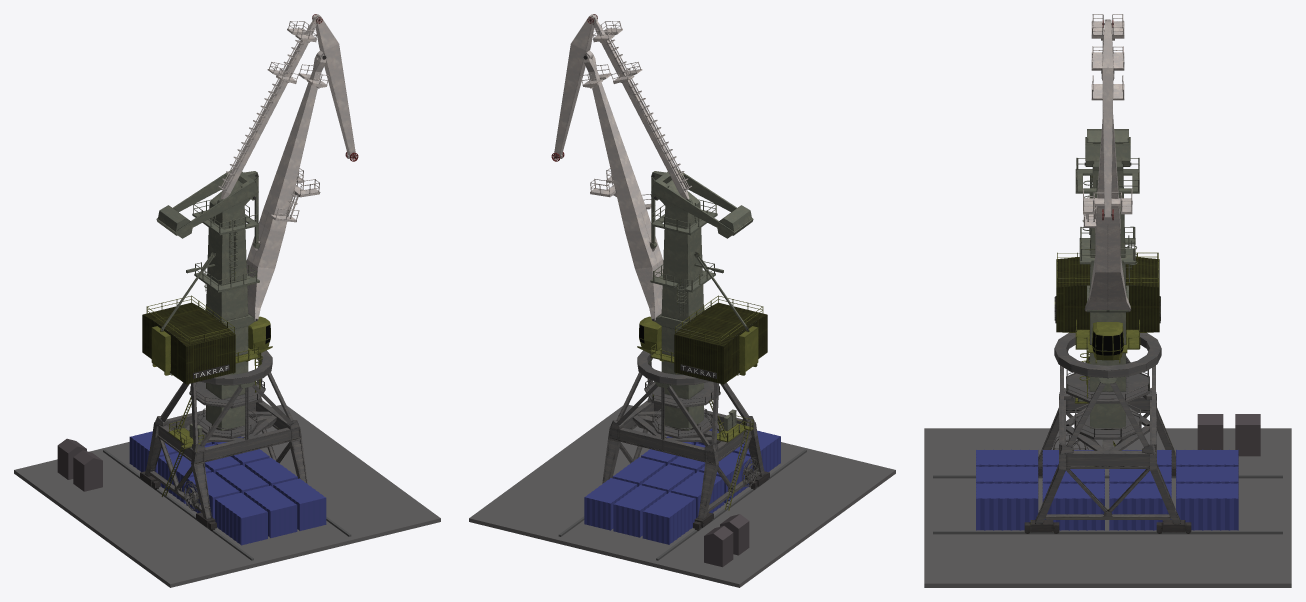
File: alb.glb
3 renders of one model, left to right at view 1: azimuth 30°, elevation 25°; view 2: azimuth 150°, elevation 25°; view 3: azimuth 270°, elevation 25°, orthographic. The views are drawn at different scales.
Visible parts, largest first — view 1: Cube.031, Cube.007, Cylinder.002, Cube.009, Cube.006, Cube.002, Cube.001, Cube; view 2: Cube.031, Cube.007, Cylinder.002, Cube.009, Cube.006, Cube.001, Cube.002, Cube; view 3: Cube.031, Cube.006, Cylinder.002, Cube.007, Cube.009, Cube, Cube.001, Cube.002.
Part boxes in pixels (x1,y1,x2,y2): Cube.031: (14, 405, 440, 587); Cube.007: (142, 169, 272, 430); Cylinder.002: (140, 350, 307, 530); Cube.009: (218, 14, 358, 321); Cube.006: (129, 431, 326, 545); Cube.002: (73, 450, 102, 491); Cube.001: (57, 438, 86, 479); Cube: (103, 449, 351, 560); Cube.031: (469, 405, 895, 587); Cube.007: (637, 168, 767, 430); Cylinder.002: (602, 350, 769, 530); Cube.009: (551, 14, 691, 321); Cube.006: (584, 428, 780, 544); Cube.001: (704, 526, 733, 567); Cube.002: (720, 514, 749, 555); Cube: (558, 449, 806, 560); Cube.031: (924, 428, 1291, 587); Cube.006: (976, 449, 1238, 530); Cylinder.002: (1024, 333, 1191, 533); Cube.007: (1054, 129, 1160, 429); Cube.009: (1083, 14, 1132, 311); Cube: (933, 475, 1282, 534); Cube.001: (1235, 414, 1260, 456); Cube.002: (1197, 414, 1223, 449).
Size of the model in its own units: 28.99 by 47.17 by 28.99.
Materials: 8 (3 with a texture image).
